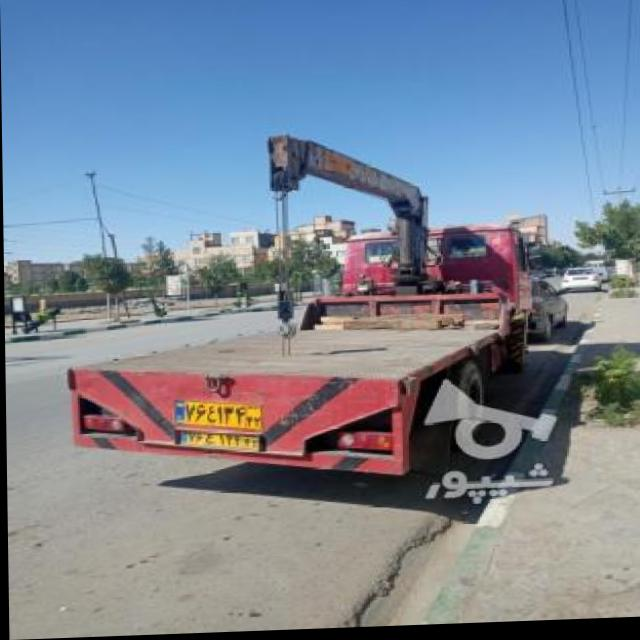licence: (171, 395, 262, 430), (176, 431, 260, 454)
